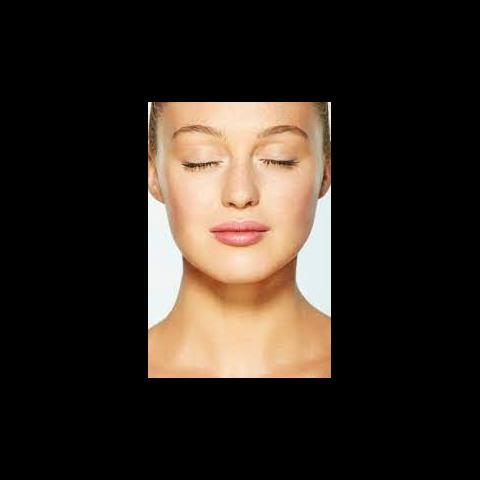closed: (167, 119, 319, 180)
